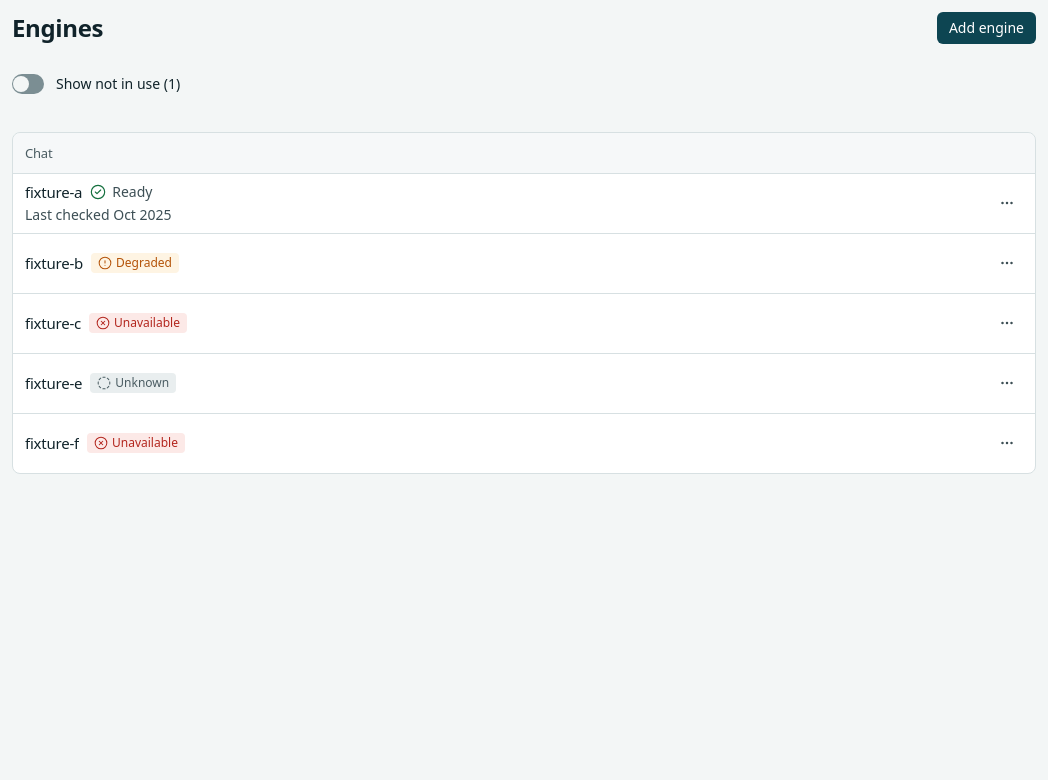
it: renders engine states from actual observations with arbitrary IDs
Click the switch named "Show not in use" at (28, 84), box [12,74,44,94]
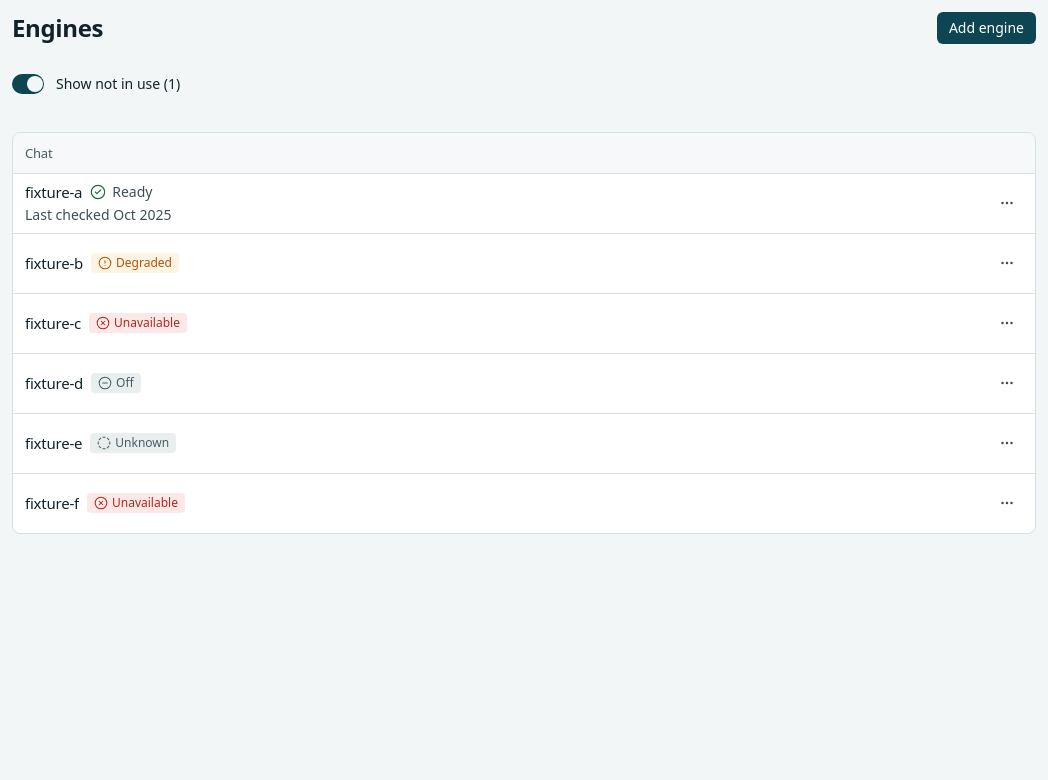
Expected: the text "Ready" is shown, [90,182,152,202]
Result: the text "Off" is shown at [91,373,141,393]
